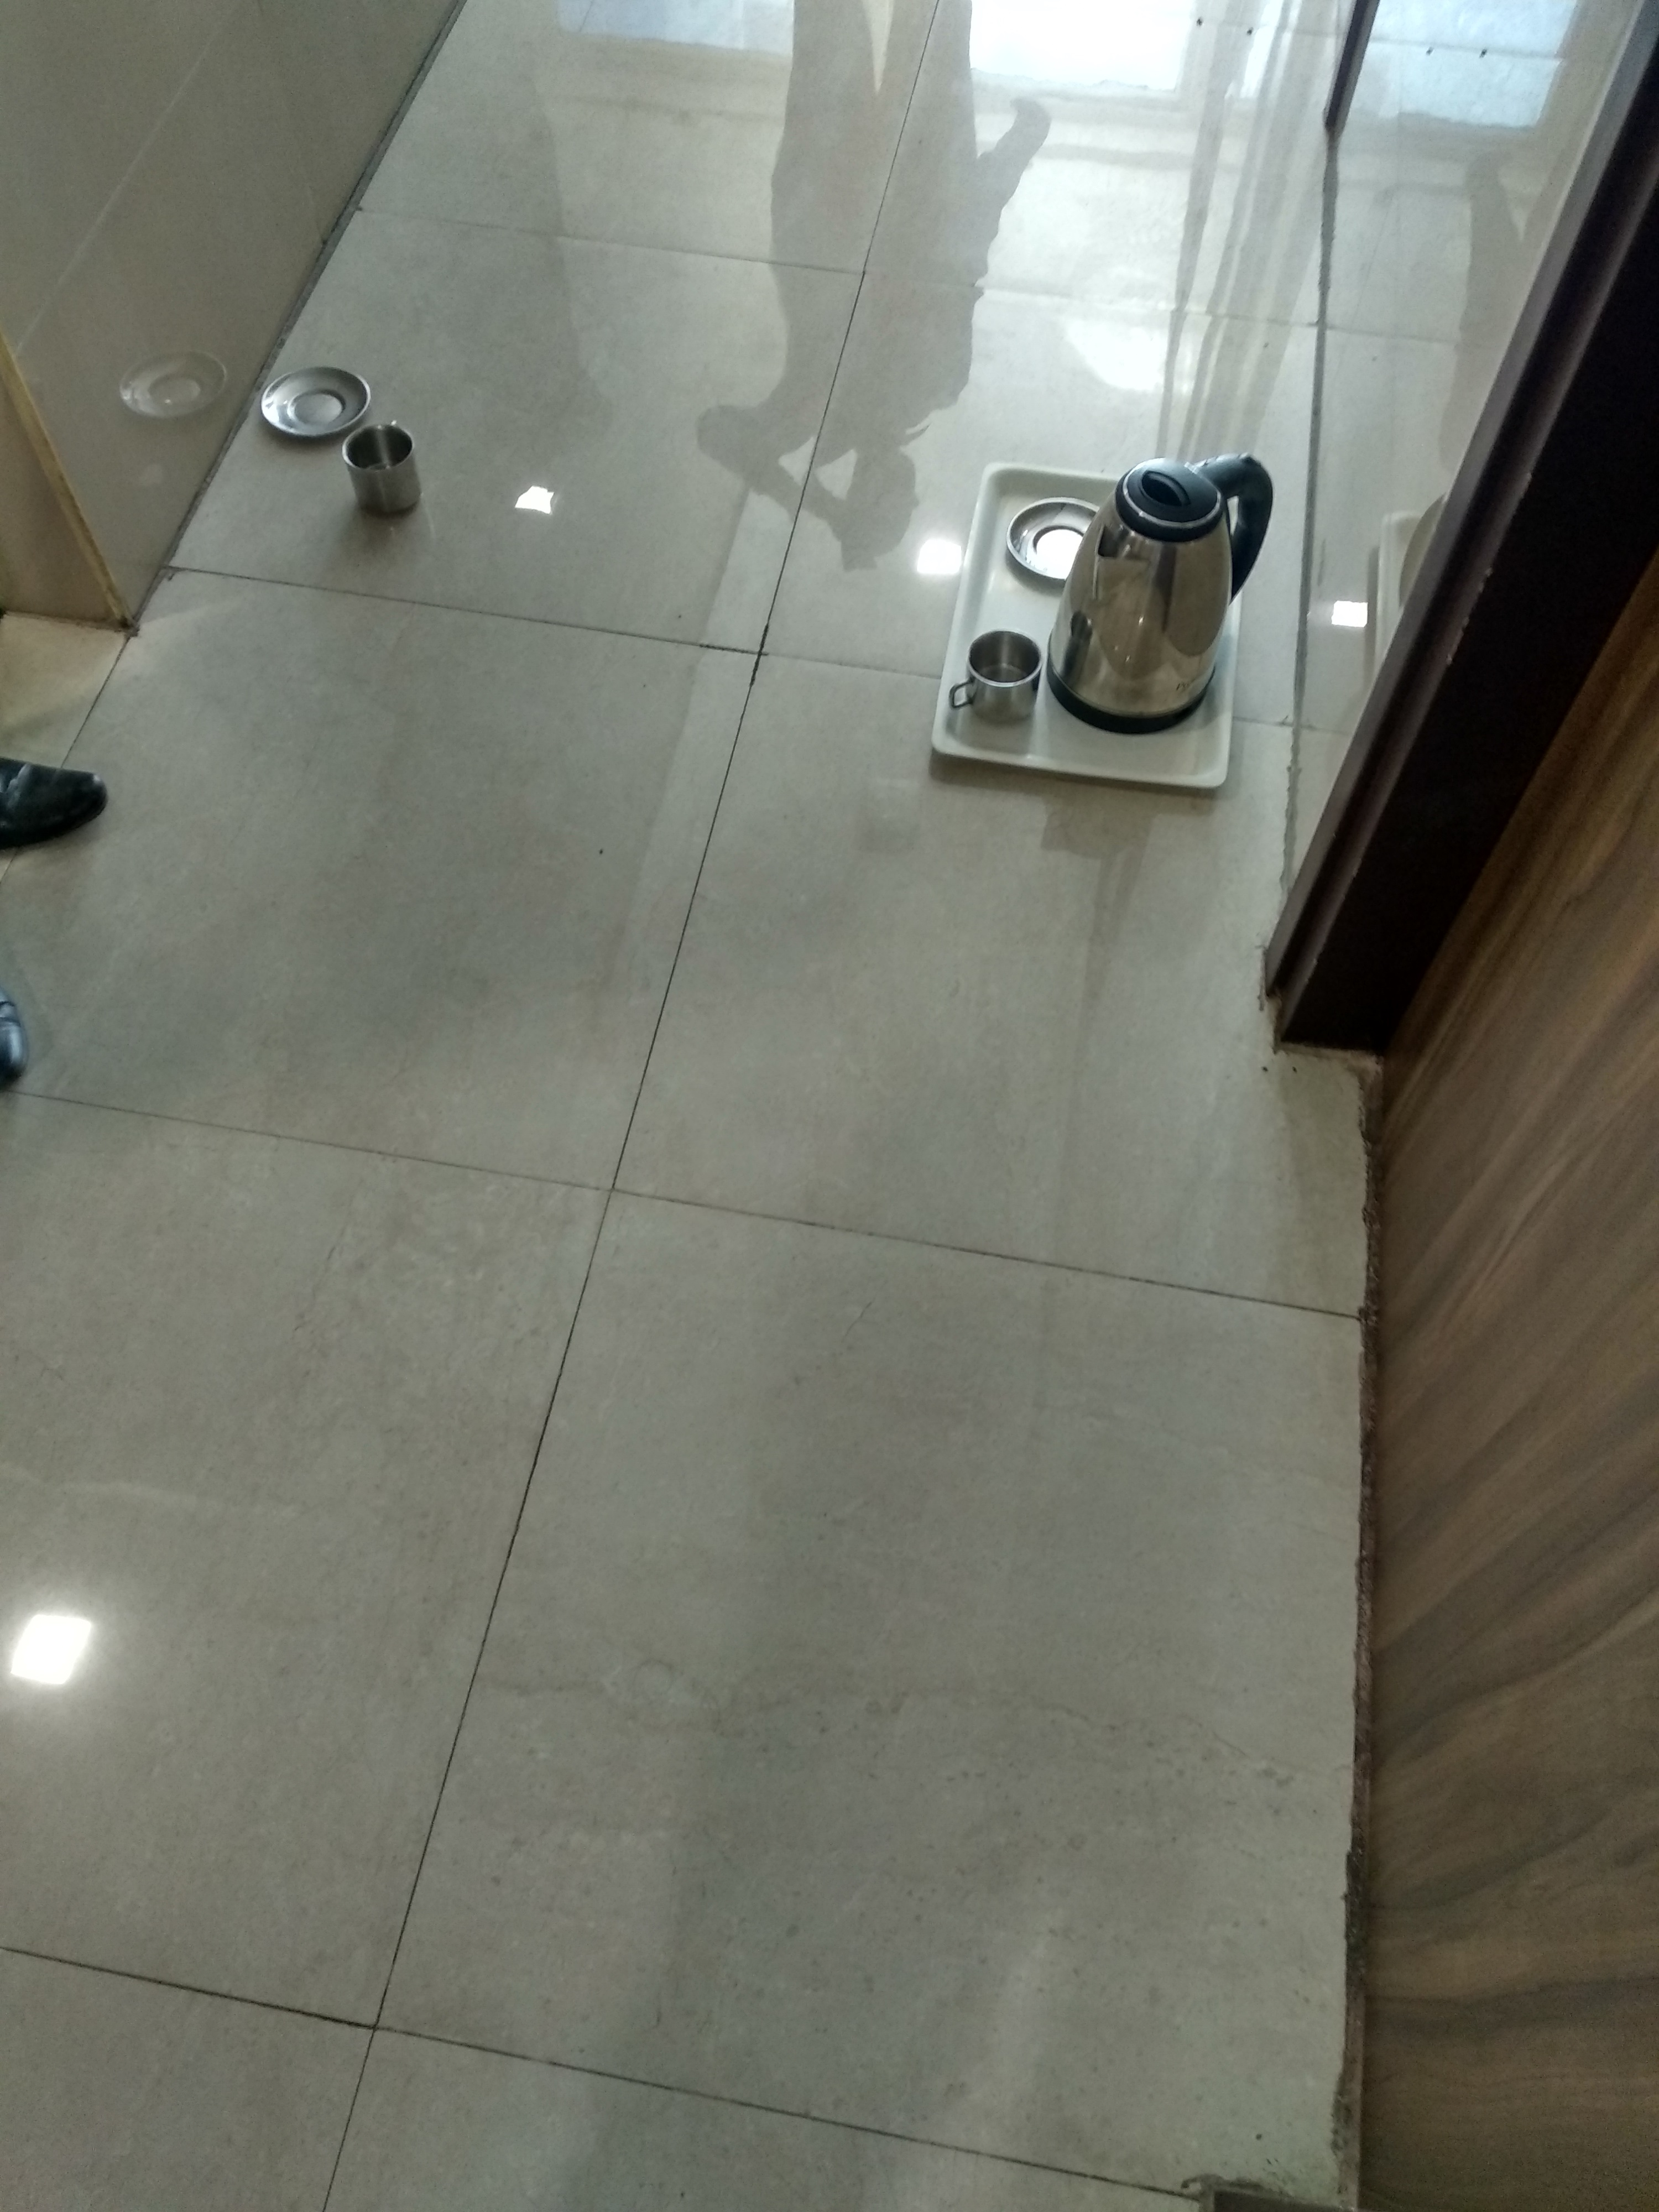CUP: (347, 423, 425, 502), (951, 639, 1035, 712)
FLASK: (1054, 467, 1288, 726)
